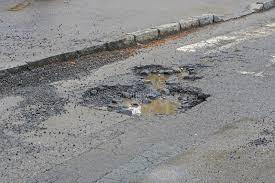alligator-crack: (0, 127, 69, 183)
pothole: (79, 86, 211, 122), (127, 58, 212, 82)
